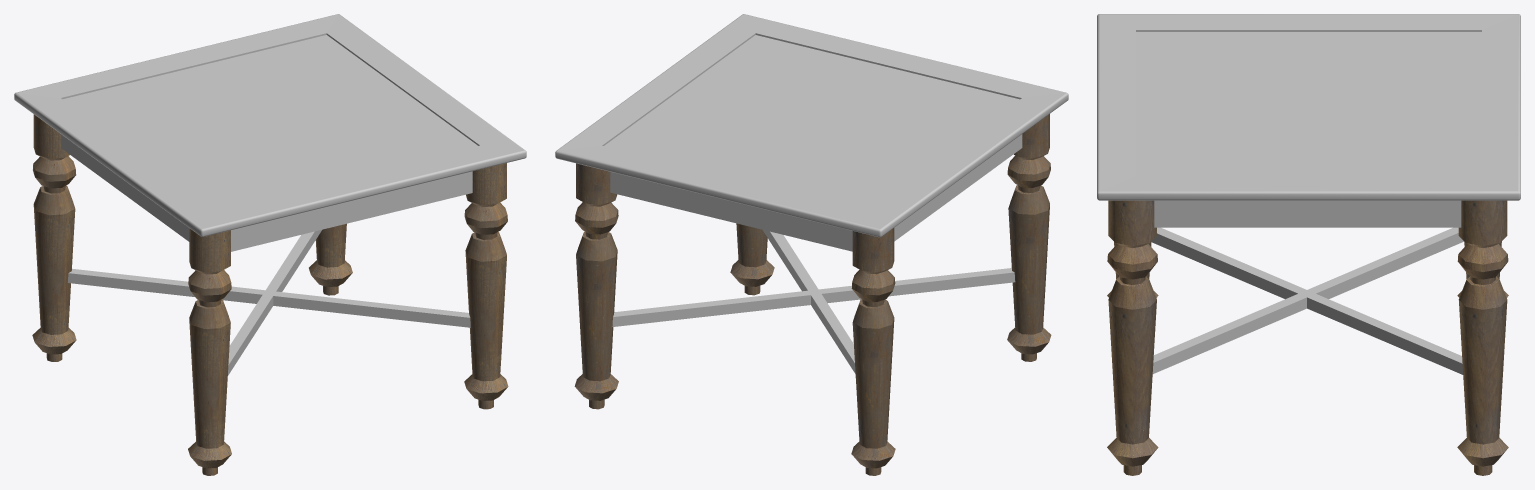
File: SmallTableSquare_01.dae
3 views of the same model, side by side, from view 1: azimuth 30°, elevation 25°; view 2: azimuth 150°, elevation 25°; view 3: azimuth 270°, elevation 25° (orthographic). The views are drawn at different scales.
Visible parts, largest first — view 1: SmallTableOne300; view 2: SmallTableOne300; view 3: SmallTableOne300.
Boxes of the visible parts, x1,y1,x2,y2 form: SmallTableOne300: (14,14,526,475); SmallTableOne300: (555,14,1068,475); SmallTableOne300: (1097,14,1520,475).
Size of what is drawn, in the model's own units: 3.76 by 3.76 by 2.88.
